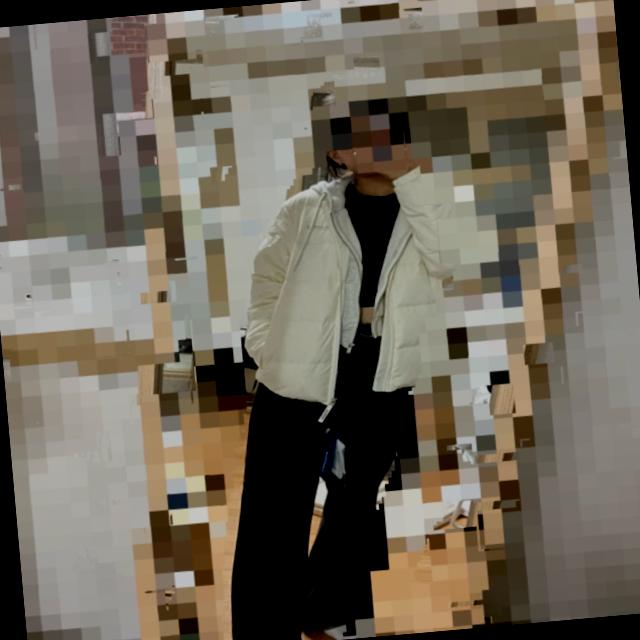cottonpants: (205, 316, 429, 640)
padding: (232, 160, 474, 412)
